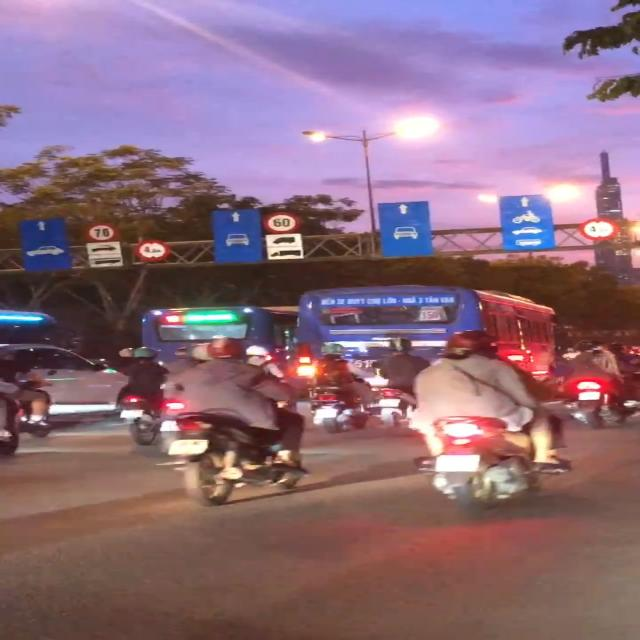Bien bao han che chieu cao: (135, 238, 169, 262)
Bien bao toc do toi da cho phep: (259, 210, 303, 236), (80, 224, 120, 242)
